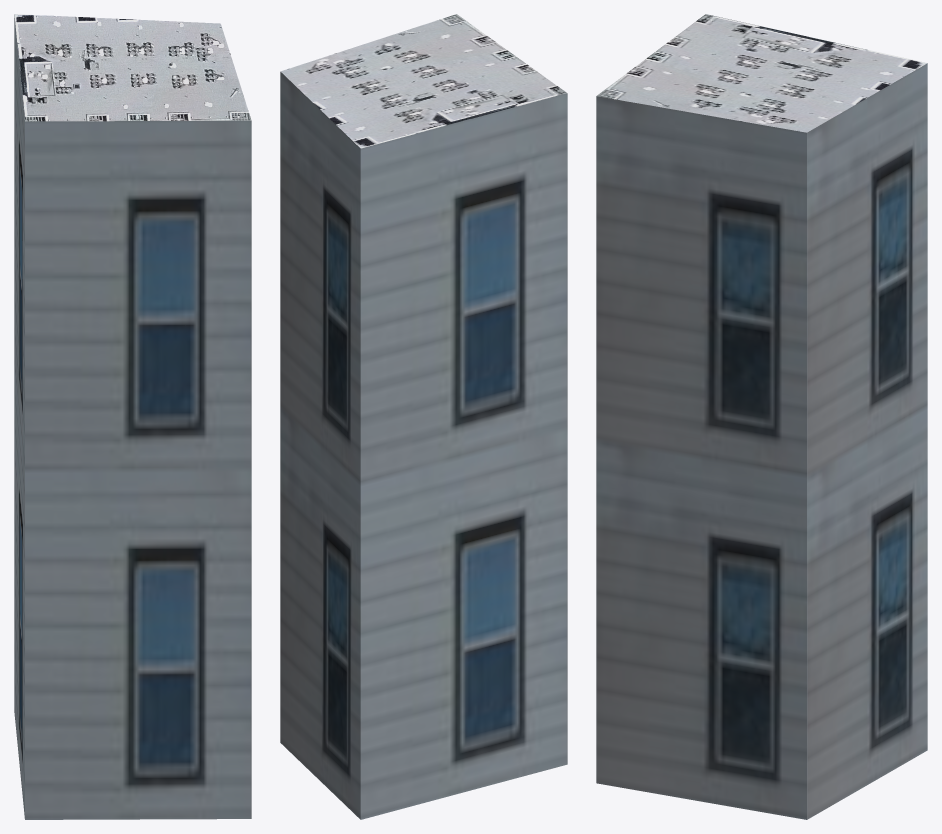
Rendered from ResTex__4357.fbx.
The picture shows the model from 3 angles, left to right: view 1: azimuth 30°, elevation 25°; view 2: azimuth 150°, elevation 25°; view 3: azimuth 270°, elevation 25°; orthographic projection. The views are drawn at different scales.
Visible parts, largest first — view 1: CityEngineMaterial_18_m, CityEngineMaterial_m; view 2: CityEngineMaterial_18_m, CityEngineMaterial_m; view 3: CityEngineMaterial_18_m, CityEngineMaterial_m.
Boxes of the visible parts, bbox=[...] form: CityEngineMaterial_18_m: bbox=[14, 15, 251, 819]; CityEngineMaterial_m: bbox=[14, 14, 251, 121]; CityEngineMaterial_18_m: bbox=[280, 72, 567, 819]; CityEngineMaterial_m: bbox=[280, 14, 566, 148]; CityEngineMaterial_18_m: bbox=[596, 63, 927, 819]; CityEngineMaterial_m: bbox=[597, 14, 927, 132].
Size of the model in its own units: 2.22 by 6 by 2.62.
2 materials, 2 textured.
